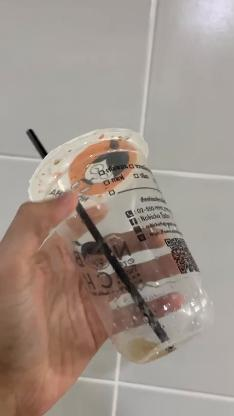Plastic Cup: (30, 126, 212, 364)
